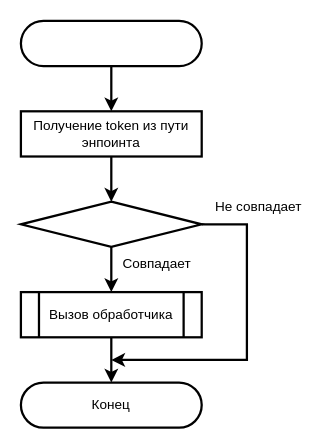
Some shapes in this 333 by 447 pixel diagram are drawn without their labels. Each missing label, with the centre of its shape:
"Начало" belongs at point 110,43.
"Проверка token" belongs at point 110,223.
